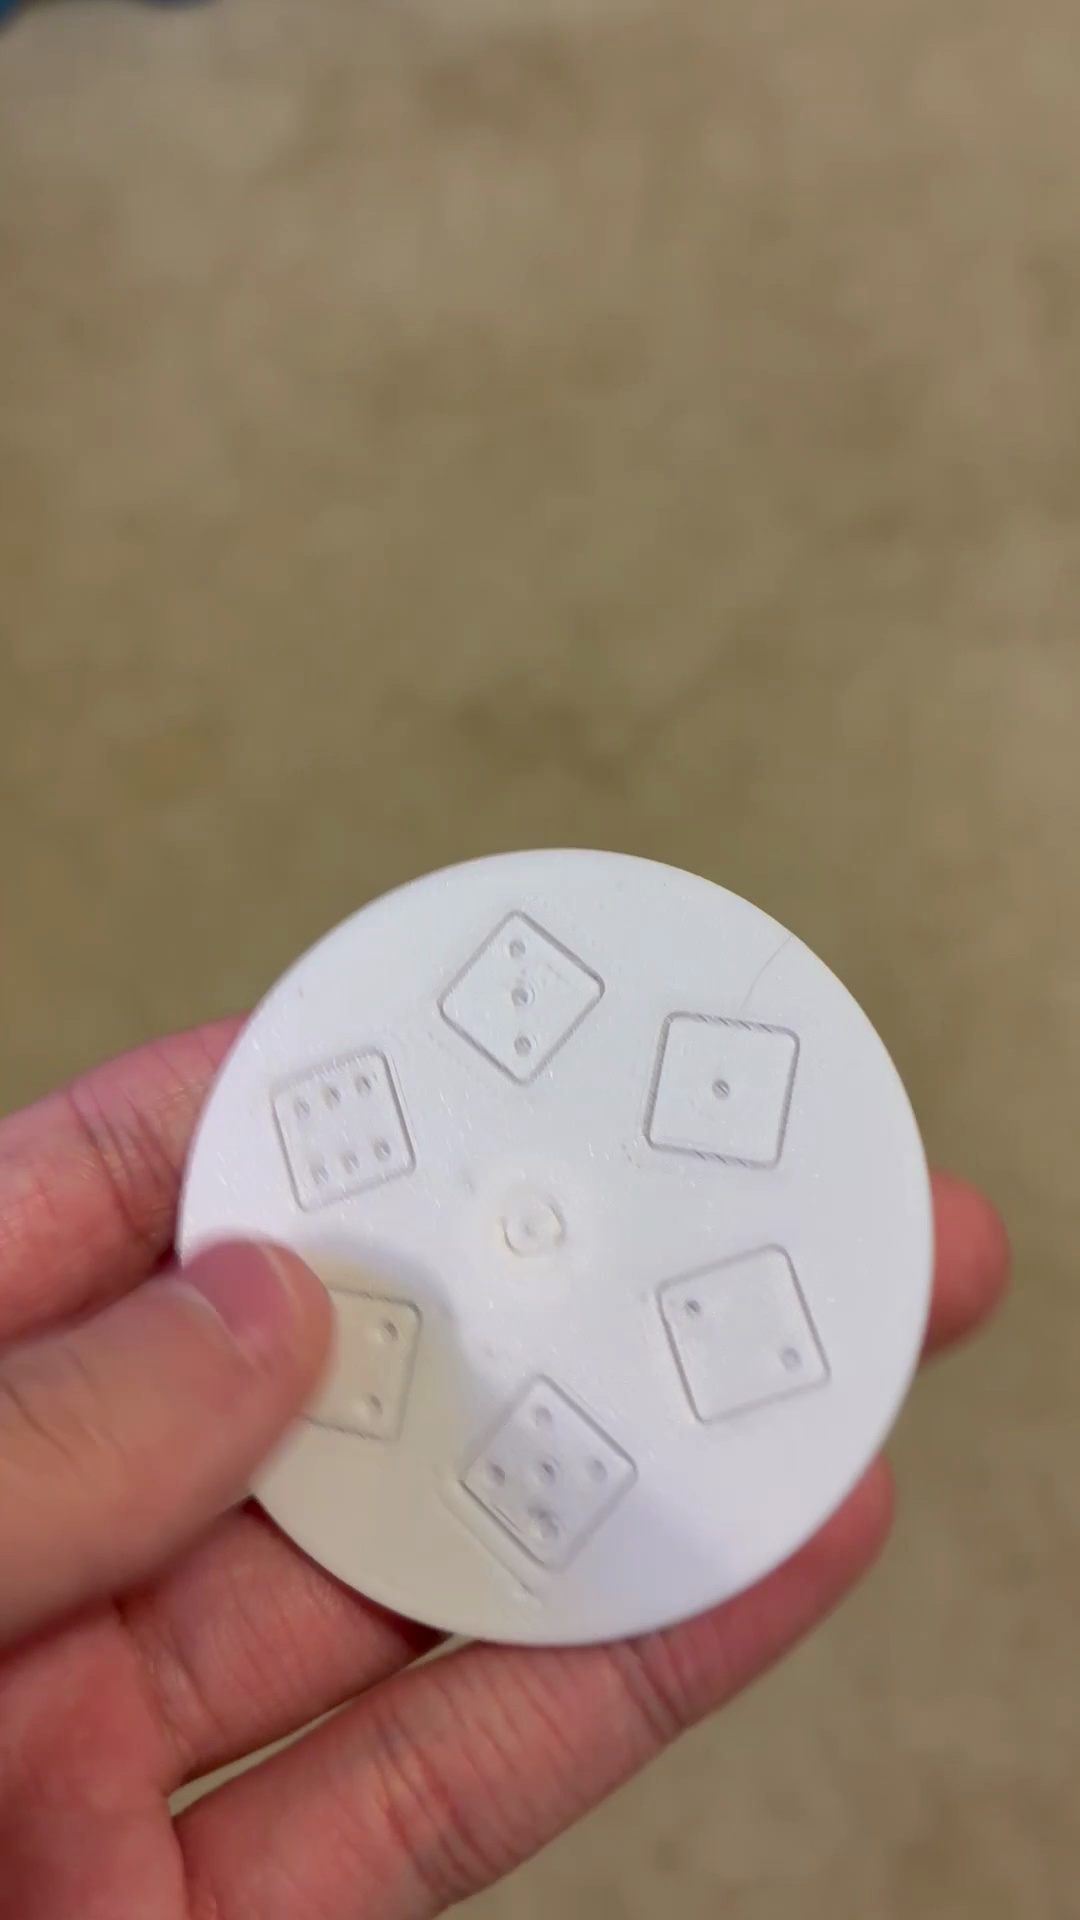Part1: (177, 851, 931, 1645)
